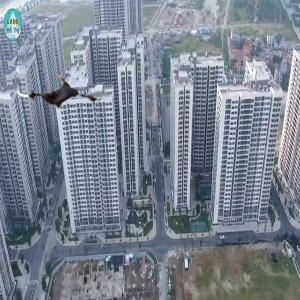drone: (16, 50, 106, 140)
